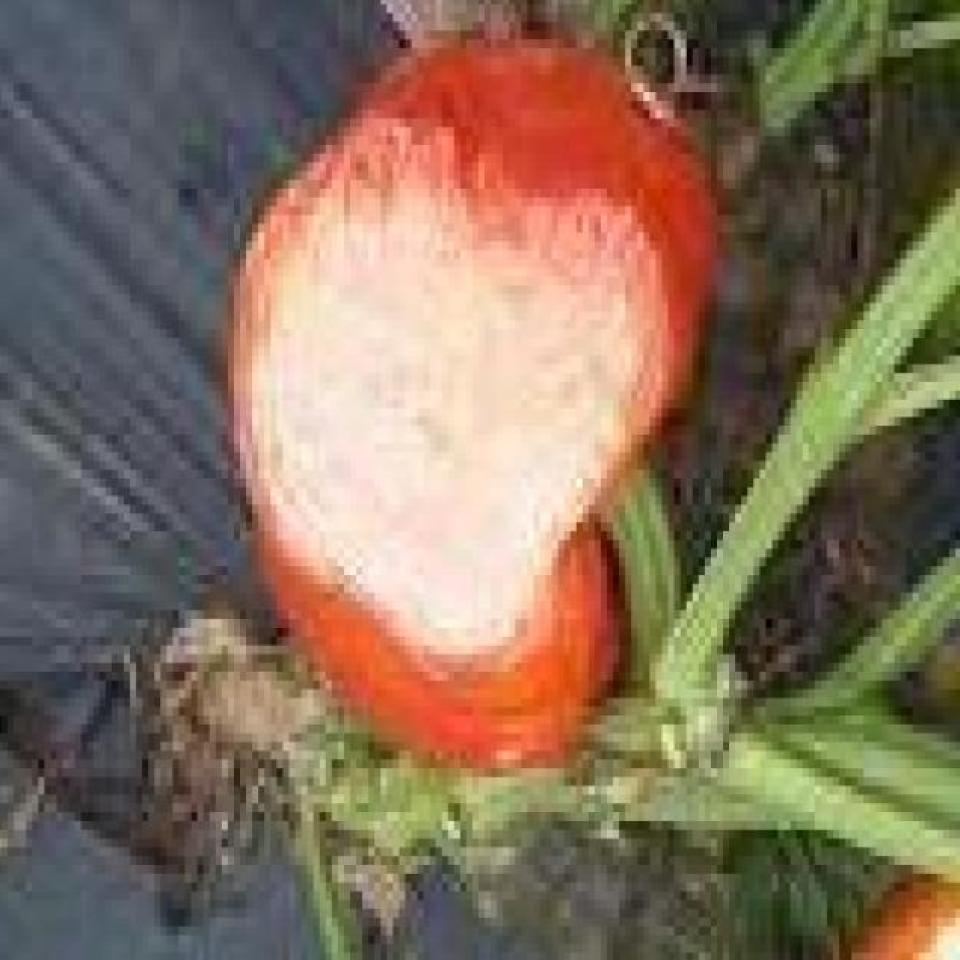Sunscald: (244, 127, 678, 681)
